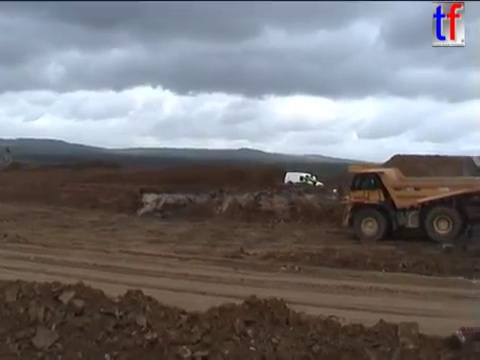truck: (330, 160, 480, 244)
worker: (308, 172, 317, 193), (302, 170, 310, 191)
